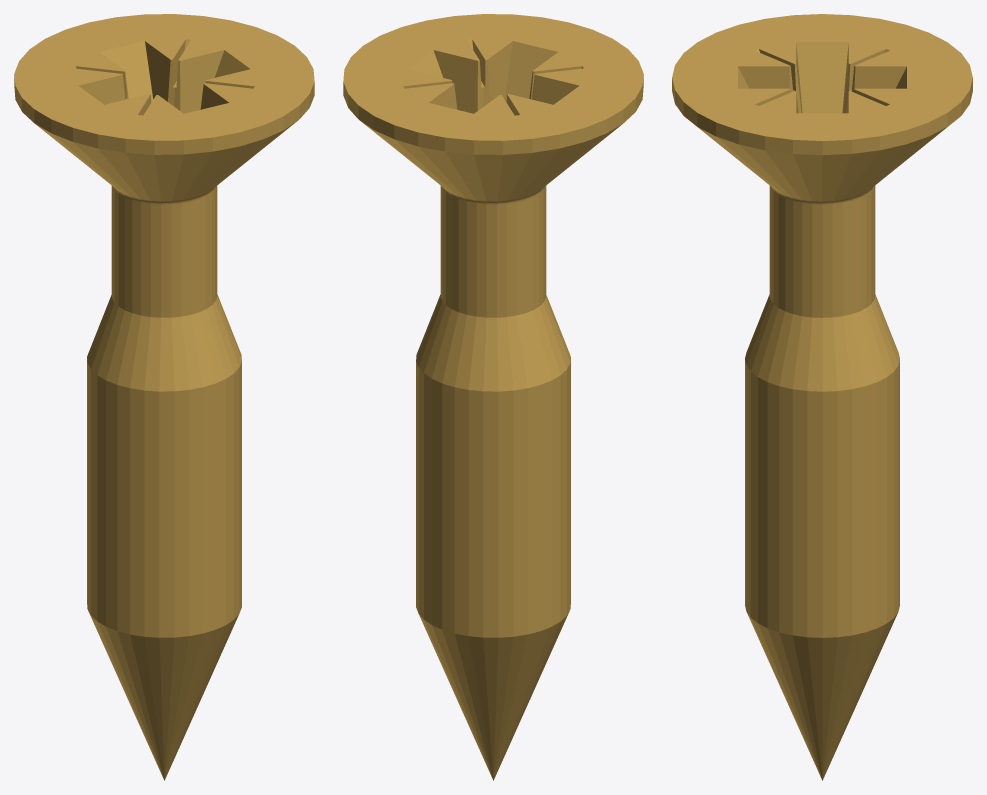
Rendered from model_display.glb.
The picture shows the model from 3 angles, left to right: view 1: azimuth 30°, elevation 25°; view 2: azimuth 150°, elevation 25°; view 3: azimuth 270°, elevation 25°; orthographic projection.
Parts seen in each view (by area): view 1: geometry_0; view 2: geometry_0; view 3: geometry_0.
Boxes of the visible parts, x1,y1,x2,y2 form: geometry_0: [14, 14, 314, 780]; geometry_0: [343, 14, 643, 780]; geometry_0: [672, 14, 972, 780].
Size of the model in its own units: 0.00775 by 0.02 by 0.00775.
